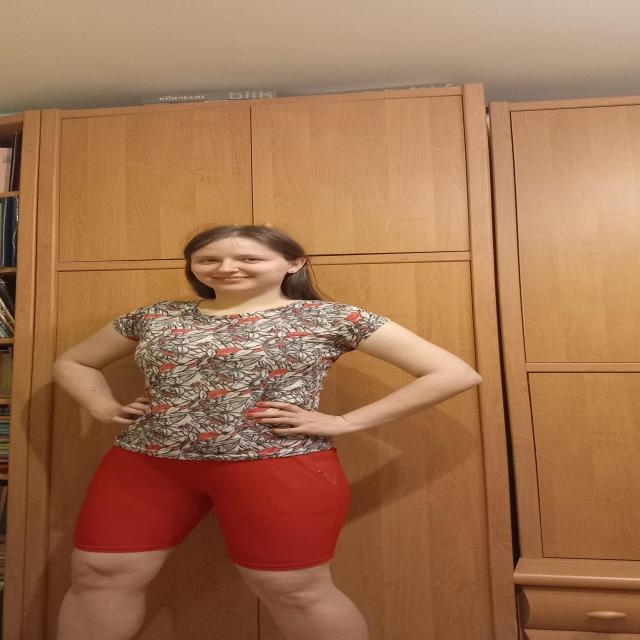Tshirt: (110, 298, 392, 462)
short: (74, 445, 352, 572)
